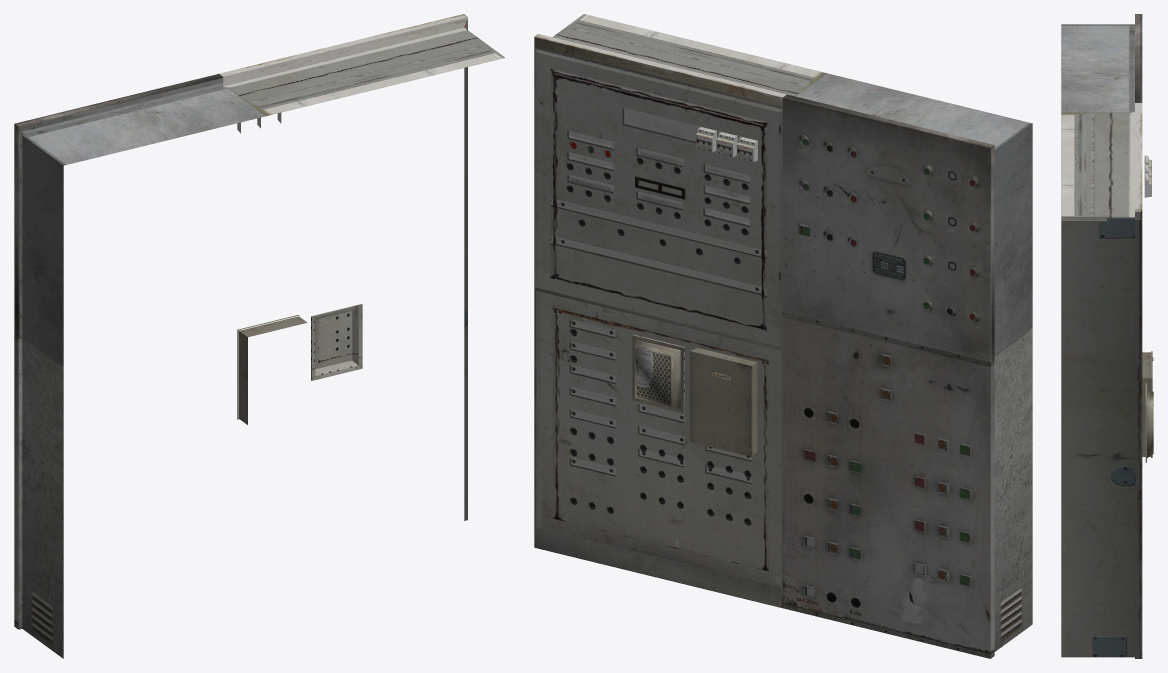
File: Prop_Eb02.glb
3 views of the same model, side by side, from view 1: azimuth 30°, elevation 25°; view 2: azimuth 150°, elevation 25°; view 3: azimuth 270°, elevation 25° (orthographic). The views are drawn at different scales.
Visible parts, largest first — view 1: xiutz_eb_02; view 2: xiutz_eb_02; view 3: xiutz_eb_02.
Boxes of the visible parts, bbox=[...] form: xiutz_eb_02: bbox=[14, 14, 504, 658]; xiutz_eb_02: bbox=[534, 14, 1032, 658]; xiutz_eb_02: bbox=[1061, 14, 1153, 658].
Bounding box in the file's own units: 3.19 × 3.41 × 0.6352.
1 material, 1 textured.
